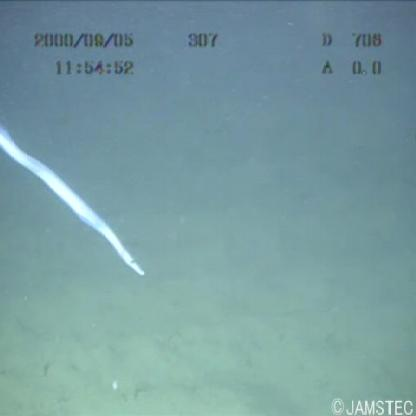Bio: (1, 120, 149, 283)
